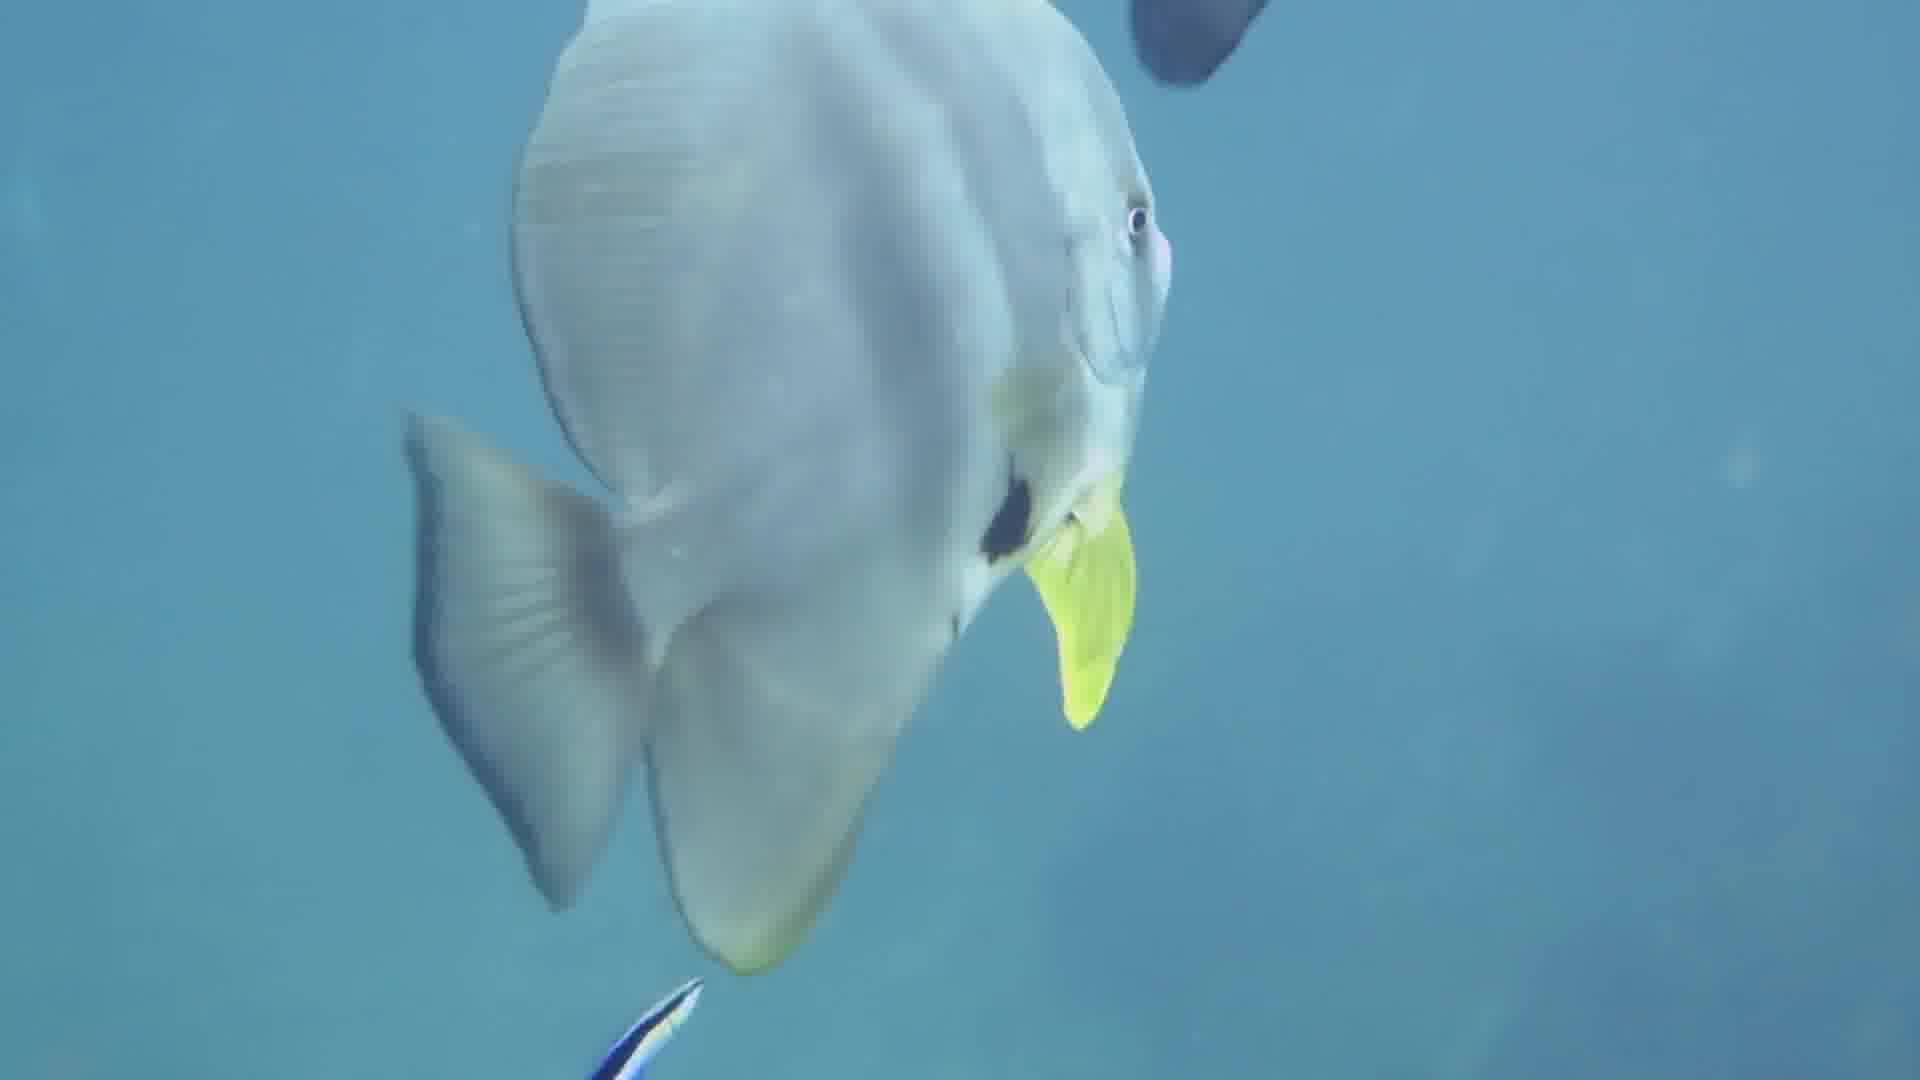Platax teira: (316, 1, 1348, 975)
